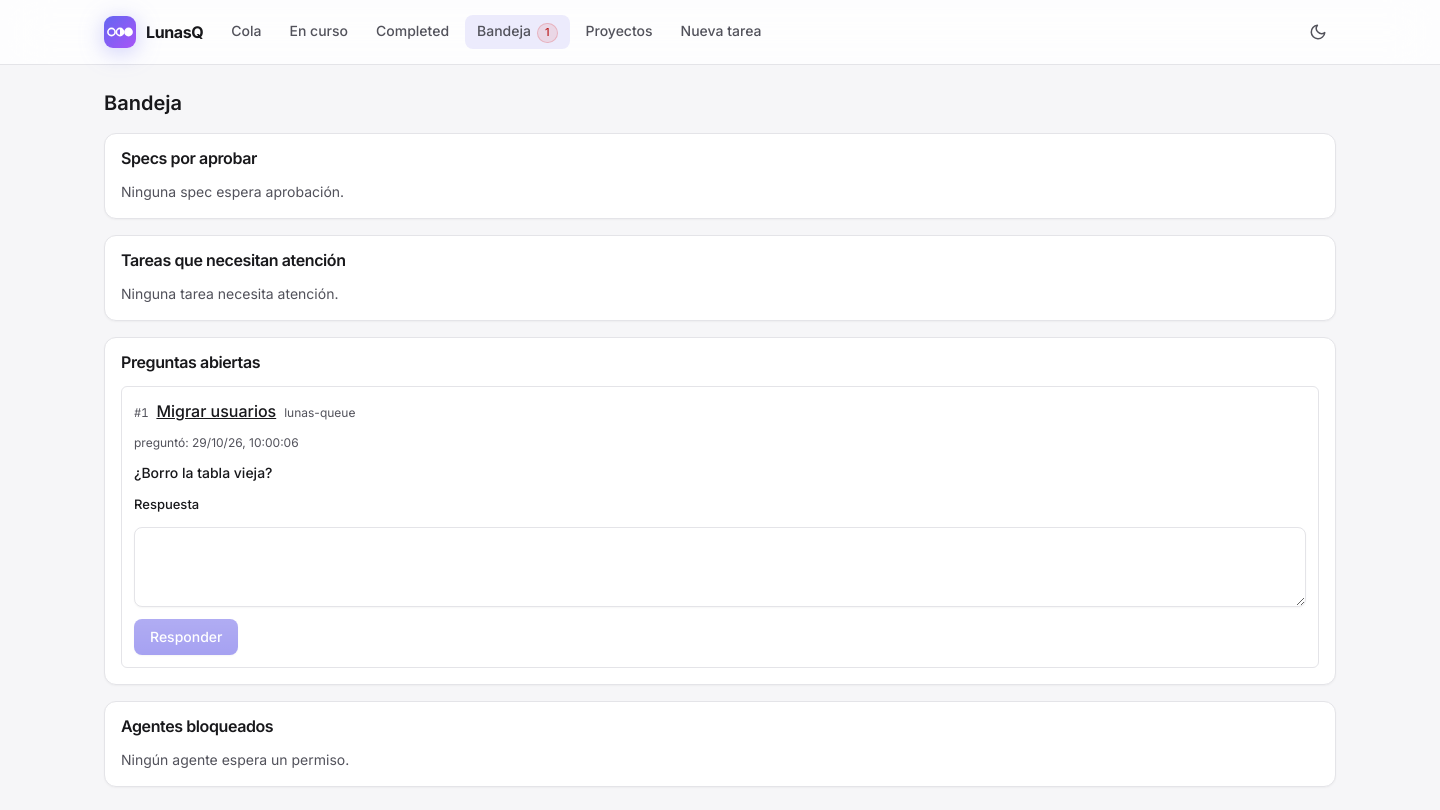
Scenario: bandeja › si la pregunta ya no está abierta muestra el error del servidor
The image size is (1440, 810).
Type "Sí" into the text box labelled "Respuesta" at [720, 566], box left=134, top=526, right=1306, bottom=606
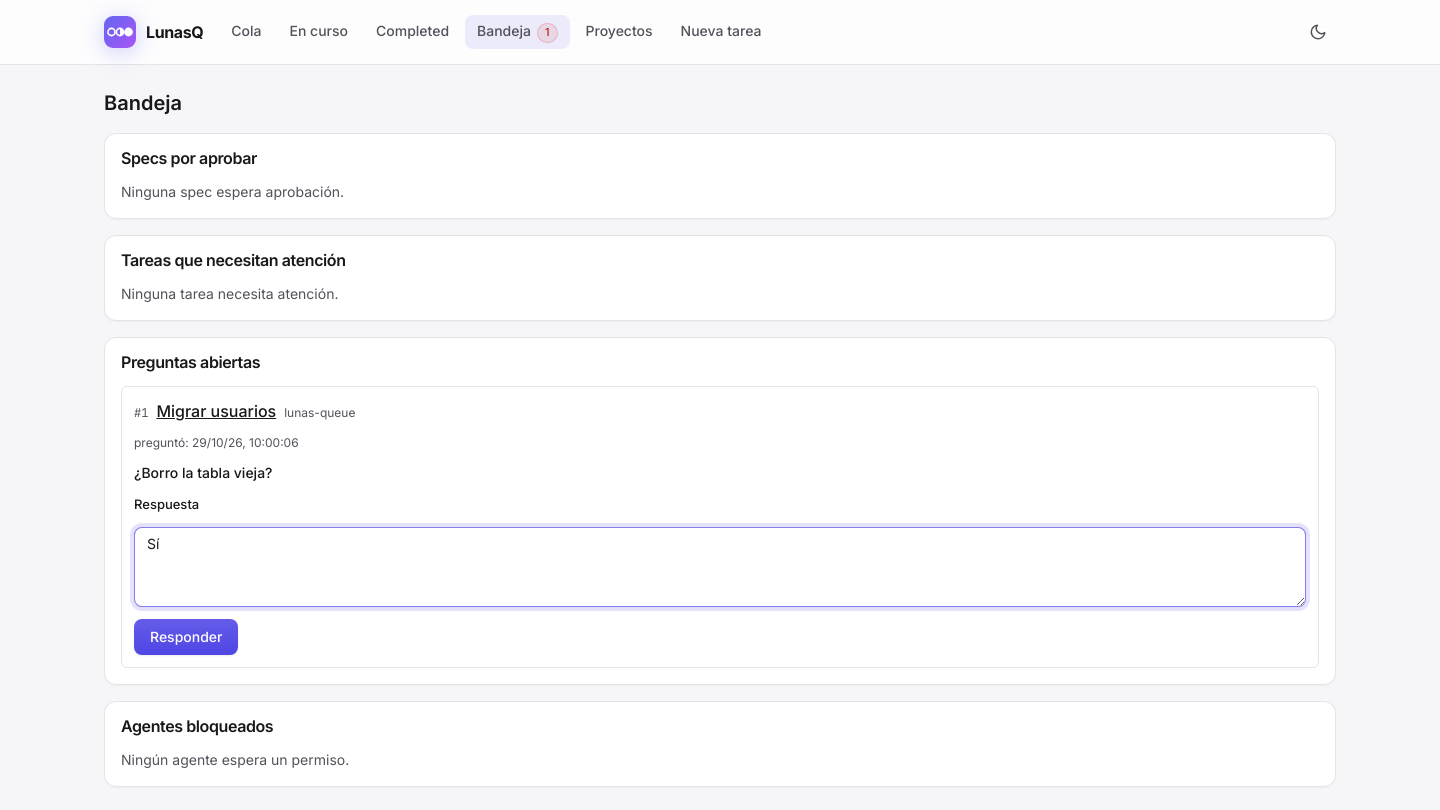
Click the button "Responder" at [186, 636], box left=134, top=618, right=238, bottom=654
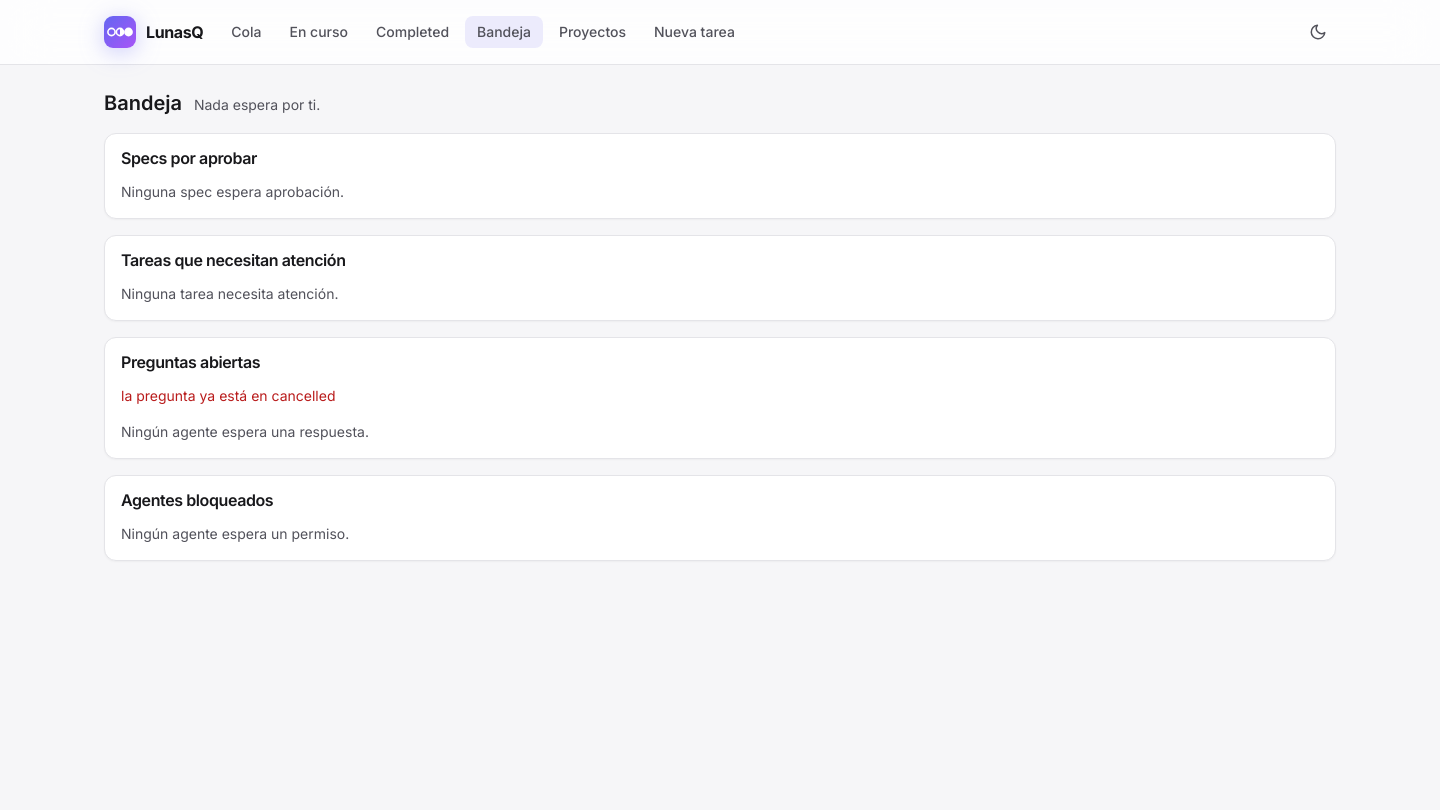
expect the message shows "ya está en cancelled": met, box left=121, top=387, right=336, bottom=404
expect the text "Ningún agente espera una respuesta." is shown: met, box left=121, top=423, right=369, bottom=440
